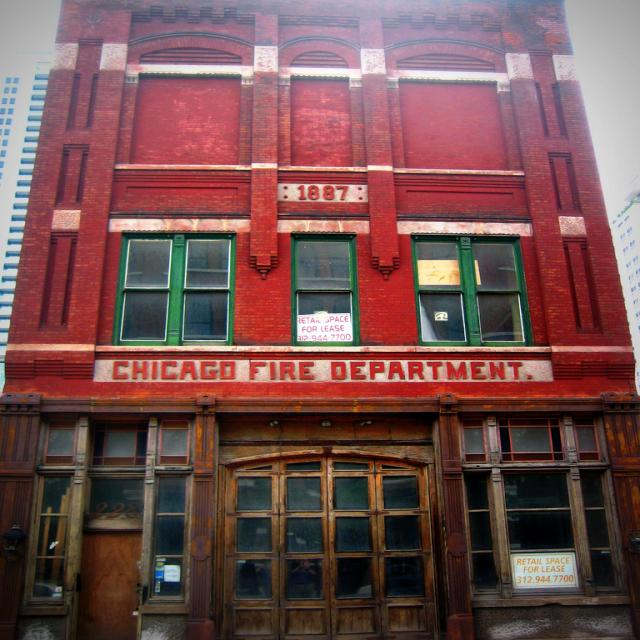no_fire: (27, 45, 640, 592)
